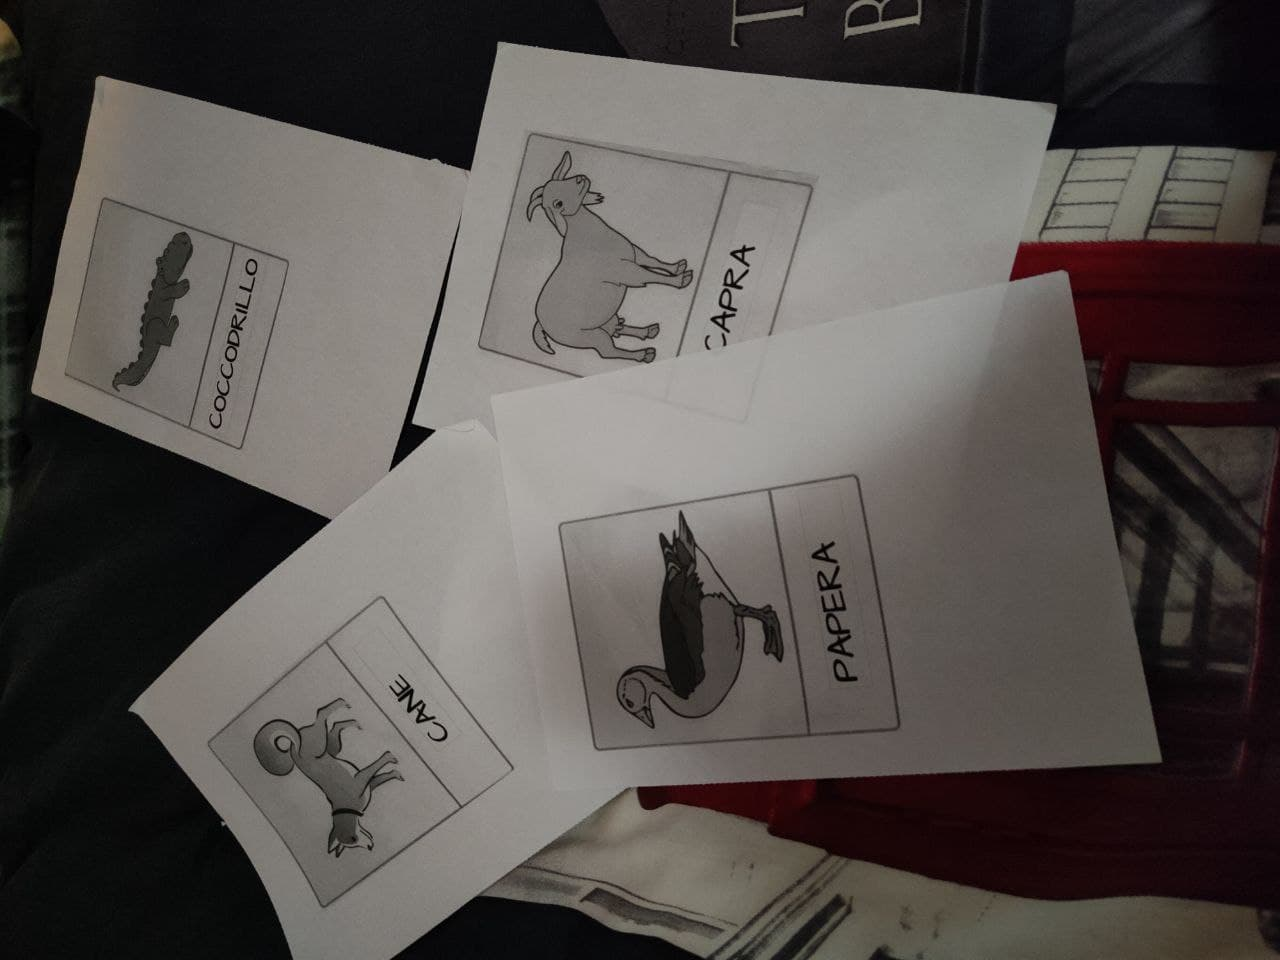cane: (233, 668, 486, 869)
capra: (523, 146, 766, 384)
coccodrillo: (85, 230, 273, 446)
papera: (564, 513, 901, 722)
